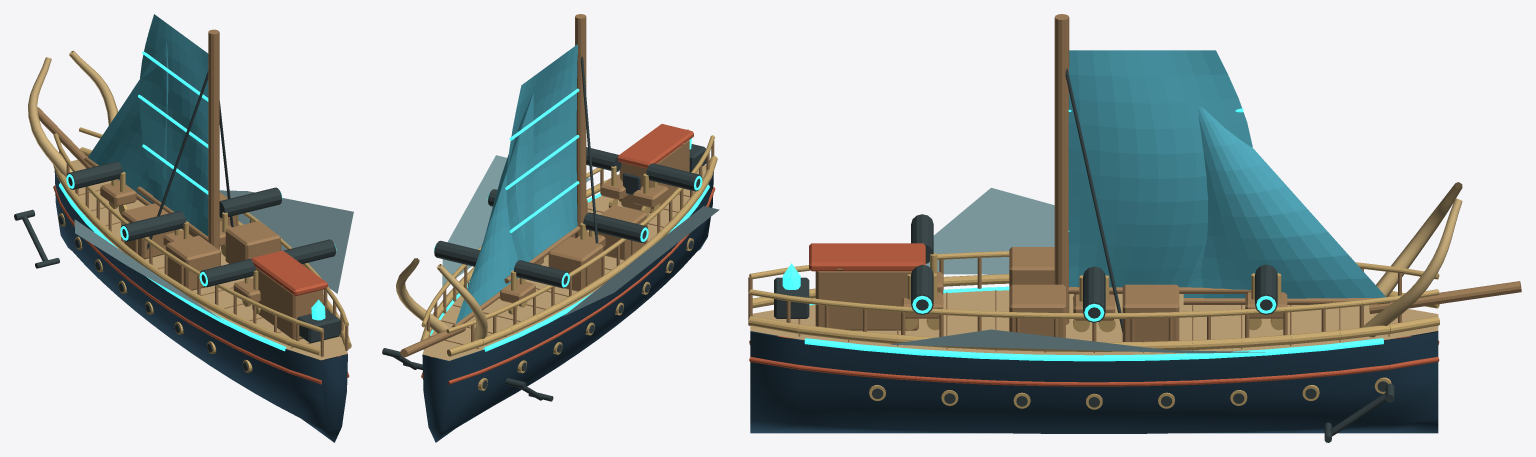
Rendered from ship_combat_cutter.glb.
3 views of the same model, side by side, from view 1: azimuth 30°, elevation 25°; view 2: azimuth 150°, elevation 25°; view 3: azimuth 270°, elevation 25° (orthographic). The views are drawn at different scales.
Parts seen in each view (by area): view 1: ship_combat_cutter; view 2: ship_combat_cutter; view 3: ship_combat_cutter.
Boxes of the visible parts, x1=… form: ship_combat_cutter: x1=14, y1=14, x2=353, y2=442; ship_combat_cutter: x1=382, y1=14, x2=719, y2=442; ship_combat_cutter: x1=748, y1=14, x2=1521, y2=442.
Bounding box in the file's own units: 4.15 × 5.68 × 9.56.
